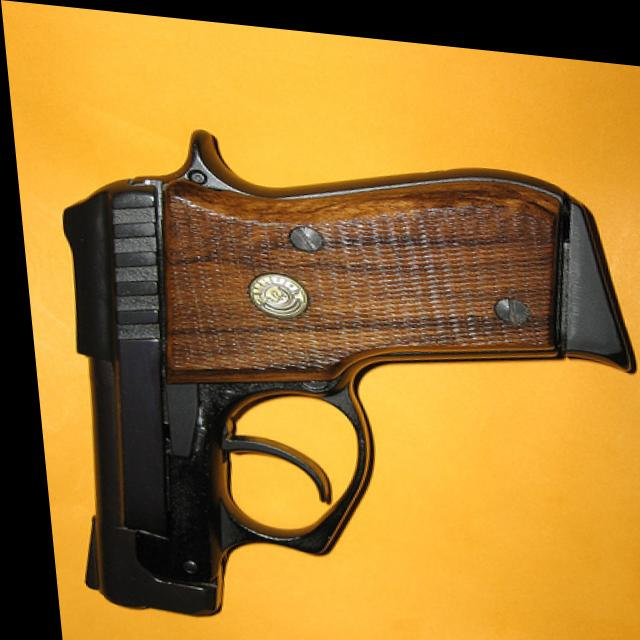handgun: (32, 106, 640, 640)
